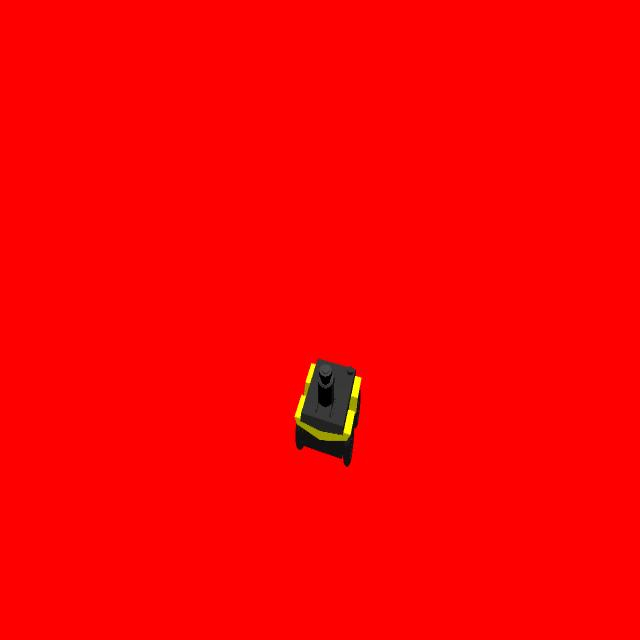jackal: (292, 353, 363, 469)
